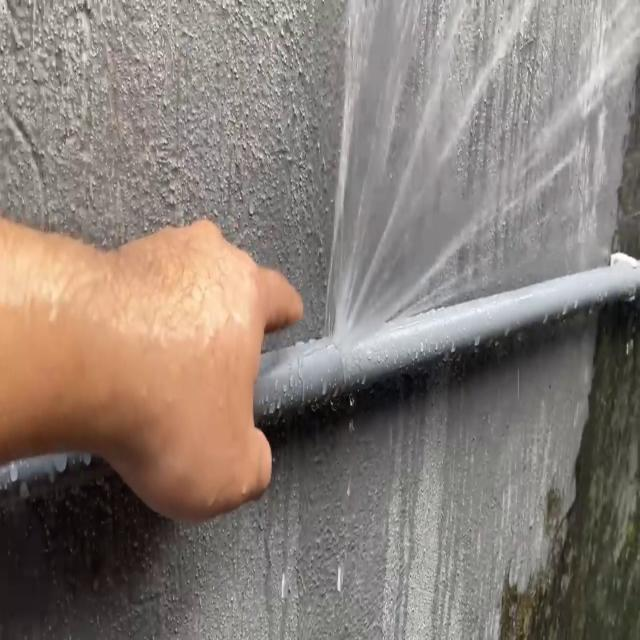leak: (322, 0, 640, 346)
